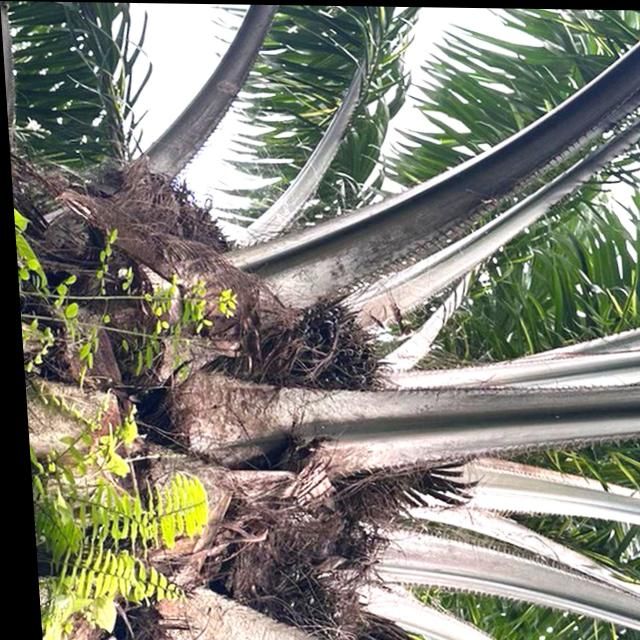unripe: (247, 279, 393, 403)
